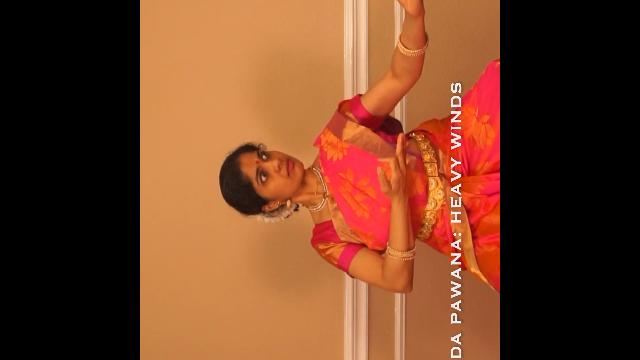aral: (373, 0, 435, 19)
